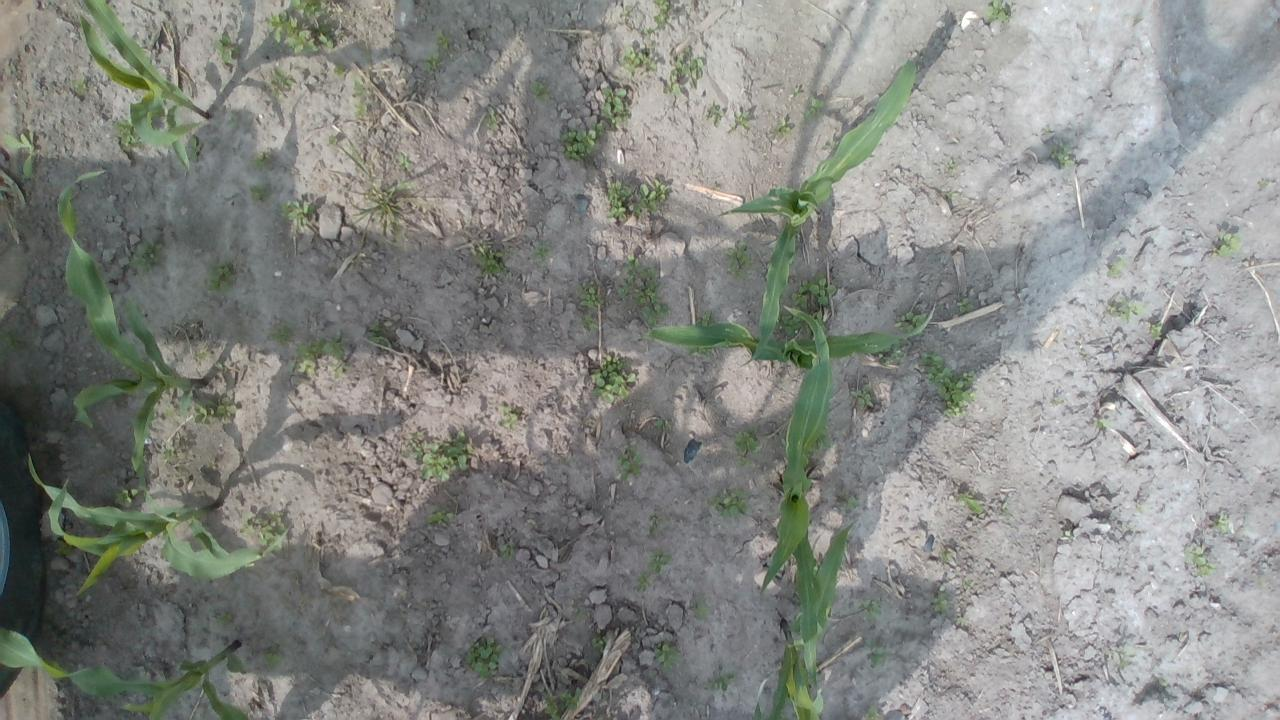Maize: (711, 57, 919, 368), (54, 166, 214, 528), (23, 451, 292, 594), (761, 298, 833, 692), (70, 0, 210, 174), (0, 626, 250, 720), (640, 298, 936, 368), (754, 521, 856, 720)
Weeds: (343, 146, 408, 232), (616, 253, 670, 326), (920, 348, 976, 418), (264, 0, 335, 52), (402, 428, 472, 480), (290, 331, 346, 379), (661, 46, 706, 99), (238, 508, 288, 552), (0, 131, 41, 184), (591, 354, 635, 402), (560, 122, 606, 162), (464, 634, 504, 680), (789, 271, 836, 308), (126, 238, 167, 278), (472, 241, 514, 280), (617, 42, 658, 78), (598, 86, 632, 129), (613, 440, 646, 482), (707, 488, 750, 519), (544, 685, 582, 720), (192, 394, 236, 424), (604, 178, 634, 220), (632, 178, 668, 212), (1182, 544, 1218, 578), (110, 117, 144, 153), (278, 197, 314, 231), (723, 240, 753, 280), (205, 257, 236, 294), (776, 310, 814, 340), (264, 67, 298, 100), (1106, 296, 1146, 322), (652, 638, 681, 672), (214, 29, 240, 66), (1212, 229, 1244, 259), (258, 642, 288, 672), (732, 426, 761, 455), (350, 79, 371, 119), (577, 280, 604, 308), (1048, 142, 1075, 170), (110, 483, 140, 508), (875, 340, 905, 364), (894, 312, 926, 334), (364, 319, 389, 347), (50, 532, 79, 556), (808, 427, 834, 453), (646, 549, 672, 575), (426, 504, 456, 526), (956, 492, 986, 514), (848, 383, 875, 407), (496, 404, 520, 431), (984, 0, 1012, 23), (866, 638, 887, 668), (858, 596, 882, 622), (704, 672, 735, 692), (810, 310, 831, 338), (930, 586, 951, 614), (650, 0, 669, 30), (266, 322, 294, 342), (186, 134, 205, 163), (1116, 645, 1138, 670), (249, 150, 273, 172), (482, 105, 503, 130), (690, 594, 710, 620), (528, 80, 550, 103), (802, 96, 822, 121), (730, 109, 753, 130), (1106, 258, 1130, 278), (1210, 510, 1230, 534), (433, 26, 451, 52), (249, 181, 271, 202), (632, 570, 653, 592), (704, 103, 724, 126), (421, 50, 442, 71), (530, 242, 552, 262), (838, 490, 860, 510), (647, 514, 668, 534), (772, 118, 792, 138), (694, 308, 716, 326), (395, 150, 413, 172), (499, 539, 516, 562), (70, 76, 88, 96), (686, 345, 713, 358), (590, 635, 608, 654), (864, 705, 886, 720), (582, 314, 600, 332), (956, 296, 974, 314), (216, 612, 236, 628), (158, 402, 176, 418), (819, 138, 839, 152), (162, 444, 176, 462), (1150, 322, 1162, 340), (654, 418, 672, 430), (572, 606, 586, 620), (334, 63, 348, 77), (736, 454, 752, 466), (1093, 418, 1112, 428), (939, 550, 954, 562), (1001, 500, 1012, 516), (942, 190, 961, 199), (1039, 124, 1052, 137), (194, 346, 206, 360), (946, 158, 956, 172), (1157, 676, 1168, 688), (327, 135, 339, 146), (778, 435, 786, 450), (1059, 530, 1071, 540), (1052, 397, 1064, 407), (792, 86, 801, 97), (642, 28, 654, 36), (963, 578, 973, 586), (956, 616, 964, 624)
